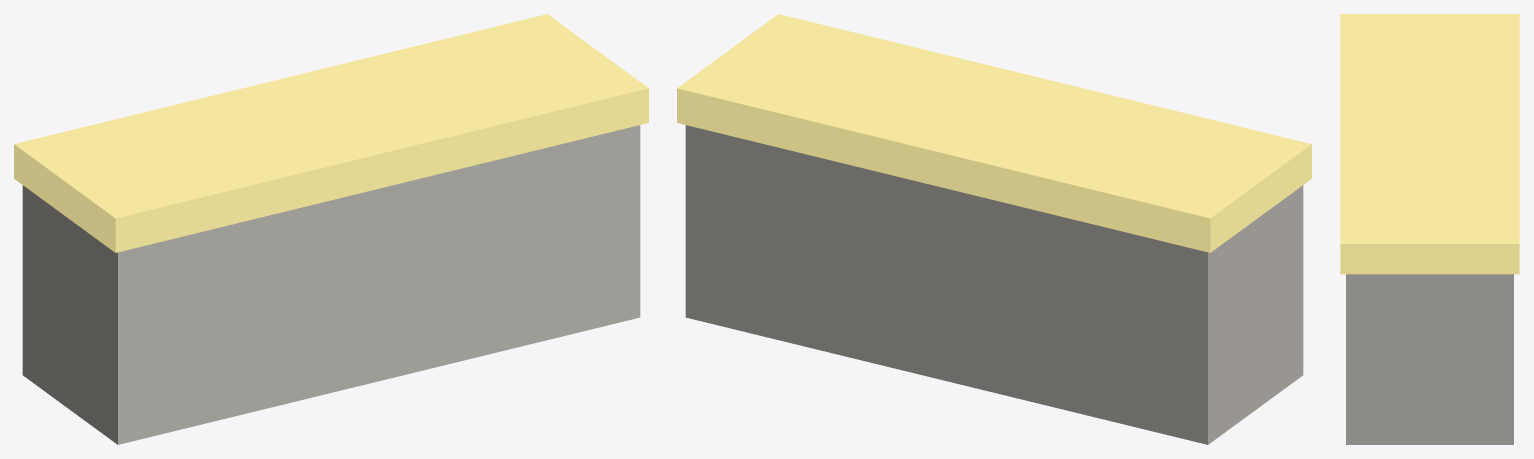
The model's file is jump-barrier.glb.
3 renders of one model, left to right at view 1: azimuth 30°, elevation 25°; view 2: azimuth 150°, elevation 25°; view 3: azimuth 270°, elevation 25°, orthographic. The views are drawn at different scales.
Visible parts, largest first — view 1: kingdom jump-barrier; view 2: kingdom jump-barrier; view 3: kingdom jump-barrier.
Part boxes in pixels (<box>): kingdom jump-barrier: <box>14,14,648,444</box>; kingdom jump-barrier: <box>677,14,1311,444</box>; kingdom jump-barrier: <box>1340,14,1519,444</box>.
Bounding box in the file's own units: 1.94 × 0.8 × 0.64.
